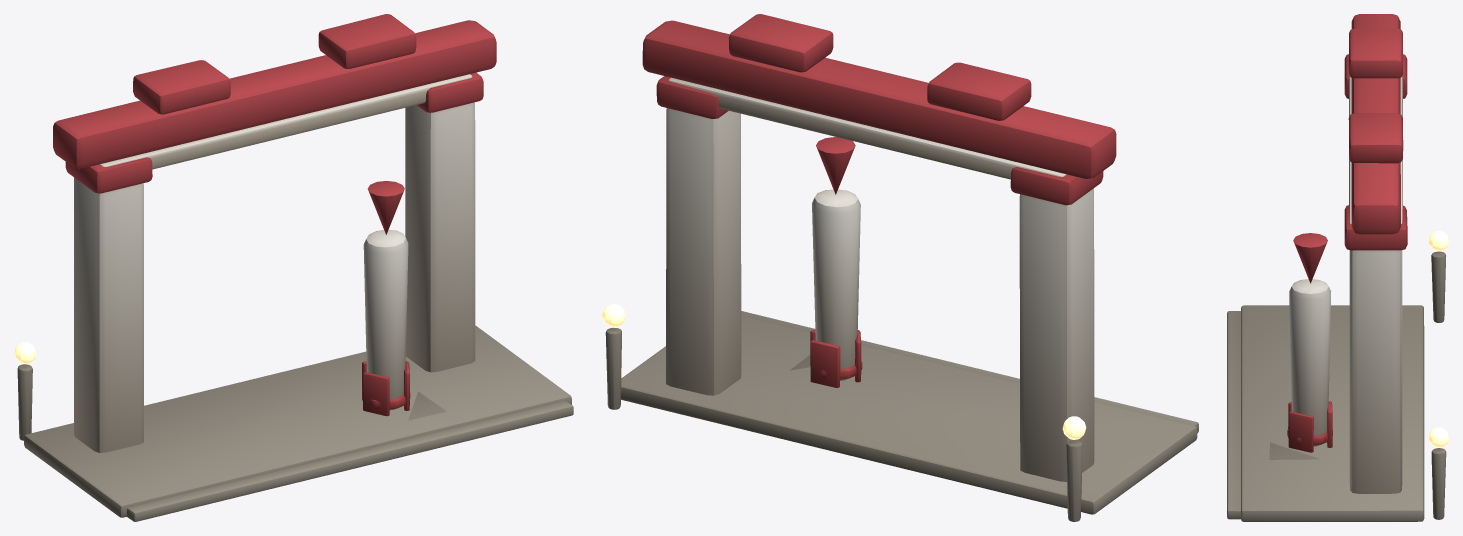
3 renders of one model, left to right at view 1: azimuth 30°, elevation 25°; view 2: azimuth 150°, elevation 25°; view 3: azimuth 270°, elevation 25°, orthographic. The views are drawn at different scales.
Parts seen in each view (by area): view 1: gate_adc0e8c1; view 2: gate_adc0e8c1; view 3: gate_adc0e8c1.
Part boxes in pixels (<box>): gate_adc0e8c1: <box>14,14,573,521</box>; gate_adc0e8c1: <box>602,14,1198,521</box>; gate_adc0e8c1: <box>1227,14,1448,521</box>.
Bounding box in the file's own units: 5.6 × 4.28 × 2.54.
